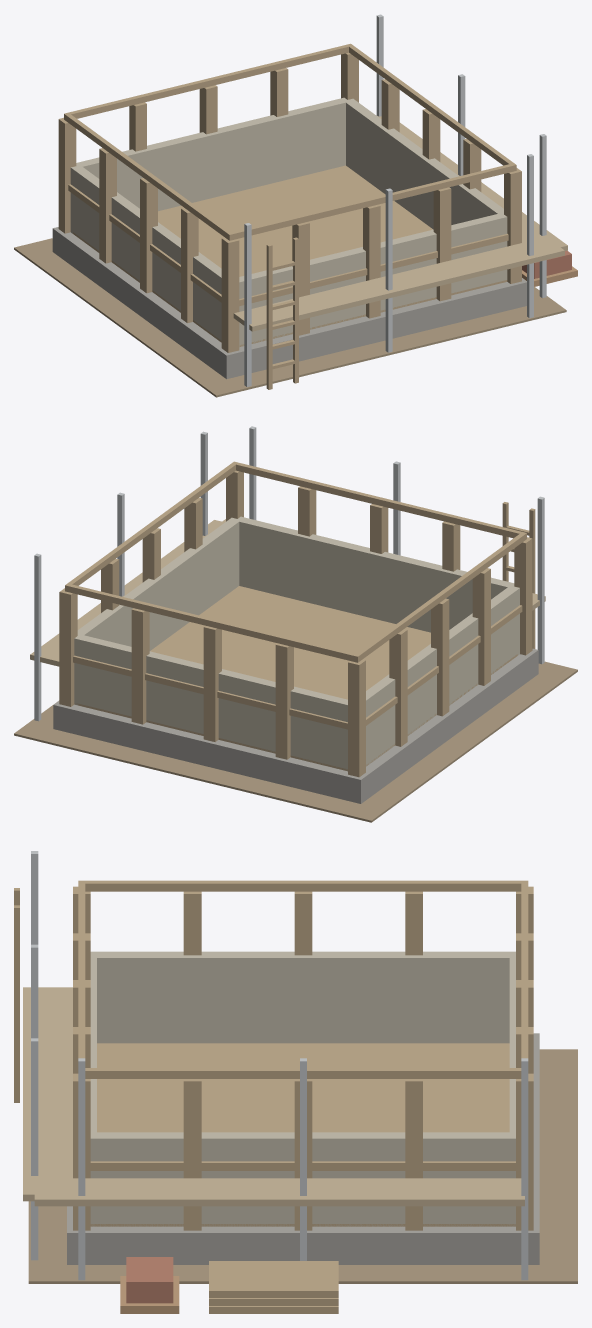
File: sheep_pen_site_6.glb
The picture shows the model from 3 angles, top to bottom: view 1: azimuth 30°, elevation 25°; view 2: azimuth 150°, elevation 25°; view 3: azimuth 270°, elevation 25°; orthographic projection. The views are drawn at different scales.
Parts seen in each view (by area): view 1: body; view 2: body; view 3: body.
Part boxes in pixels (bbox=[...]): body: bbox=[14, 14, 577, 397]; body: bbox=[14, 426, 577, 822]; body: bbox=[14, 851, 577, 1313].
Size of the model in its own units: 2.1 by 0.829 by 1.91.
